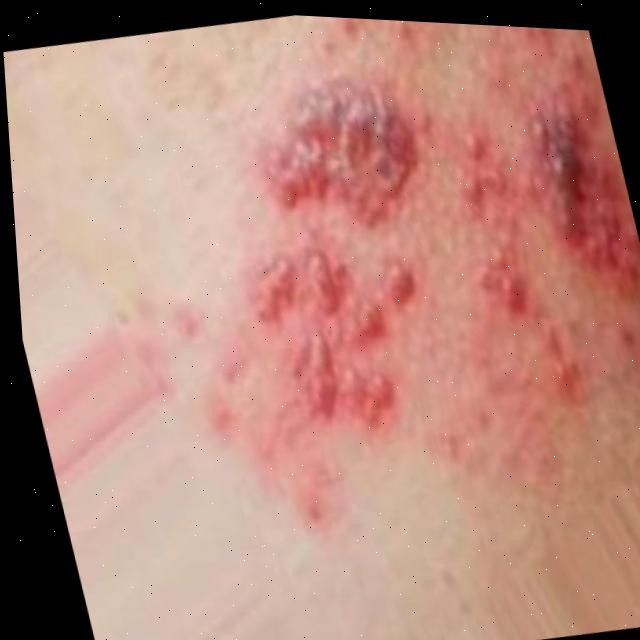Shingles: (186, 38, 640, 476)
